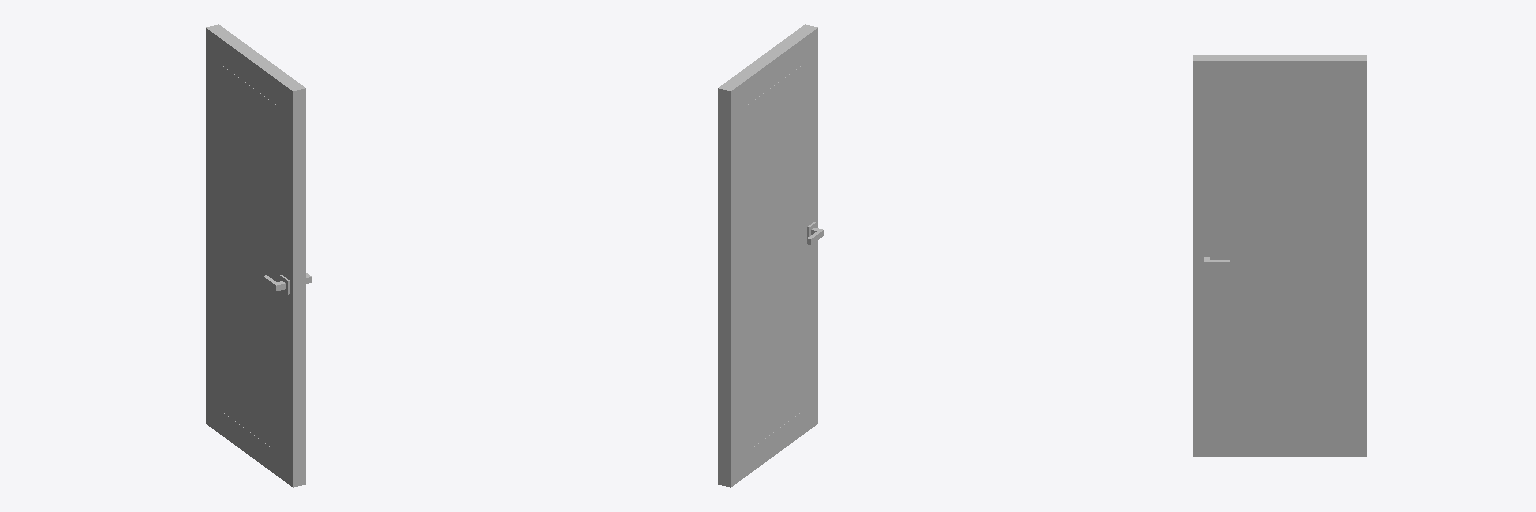
Rendered from door803_white.obj.
3 renders of one model, left to right at view 1: azimuth 30°, elevation 25°; view 2: azimuth 150°, elevation 25°; view 3: azimuth 270°, elevation 25°, orthographic.
Visible parts, largest first — view 1: Cube; view 2: Cube; view 3: Cube.
Boxes of the visible parts, <box> form: Cube: <box>206,24,311,487</box>; Cube: <box>718,24,823,487</box>; Cube: <box>1193,55,1366,456</box>.
Bounding box in the file's own units: 0.1899 × 2 × 0.7999.